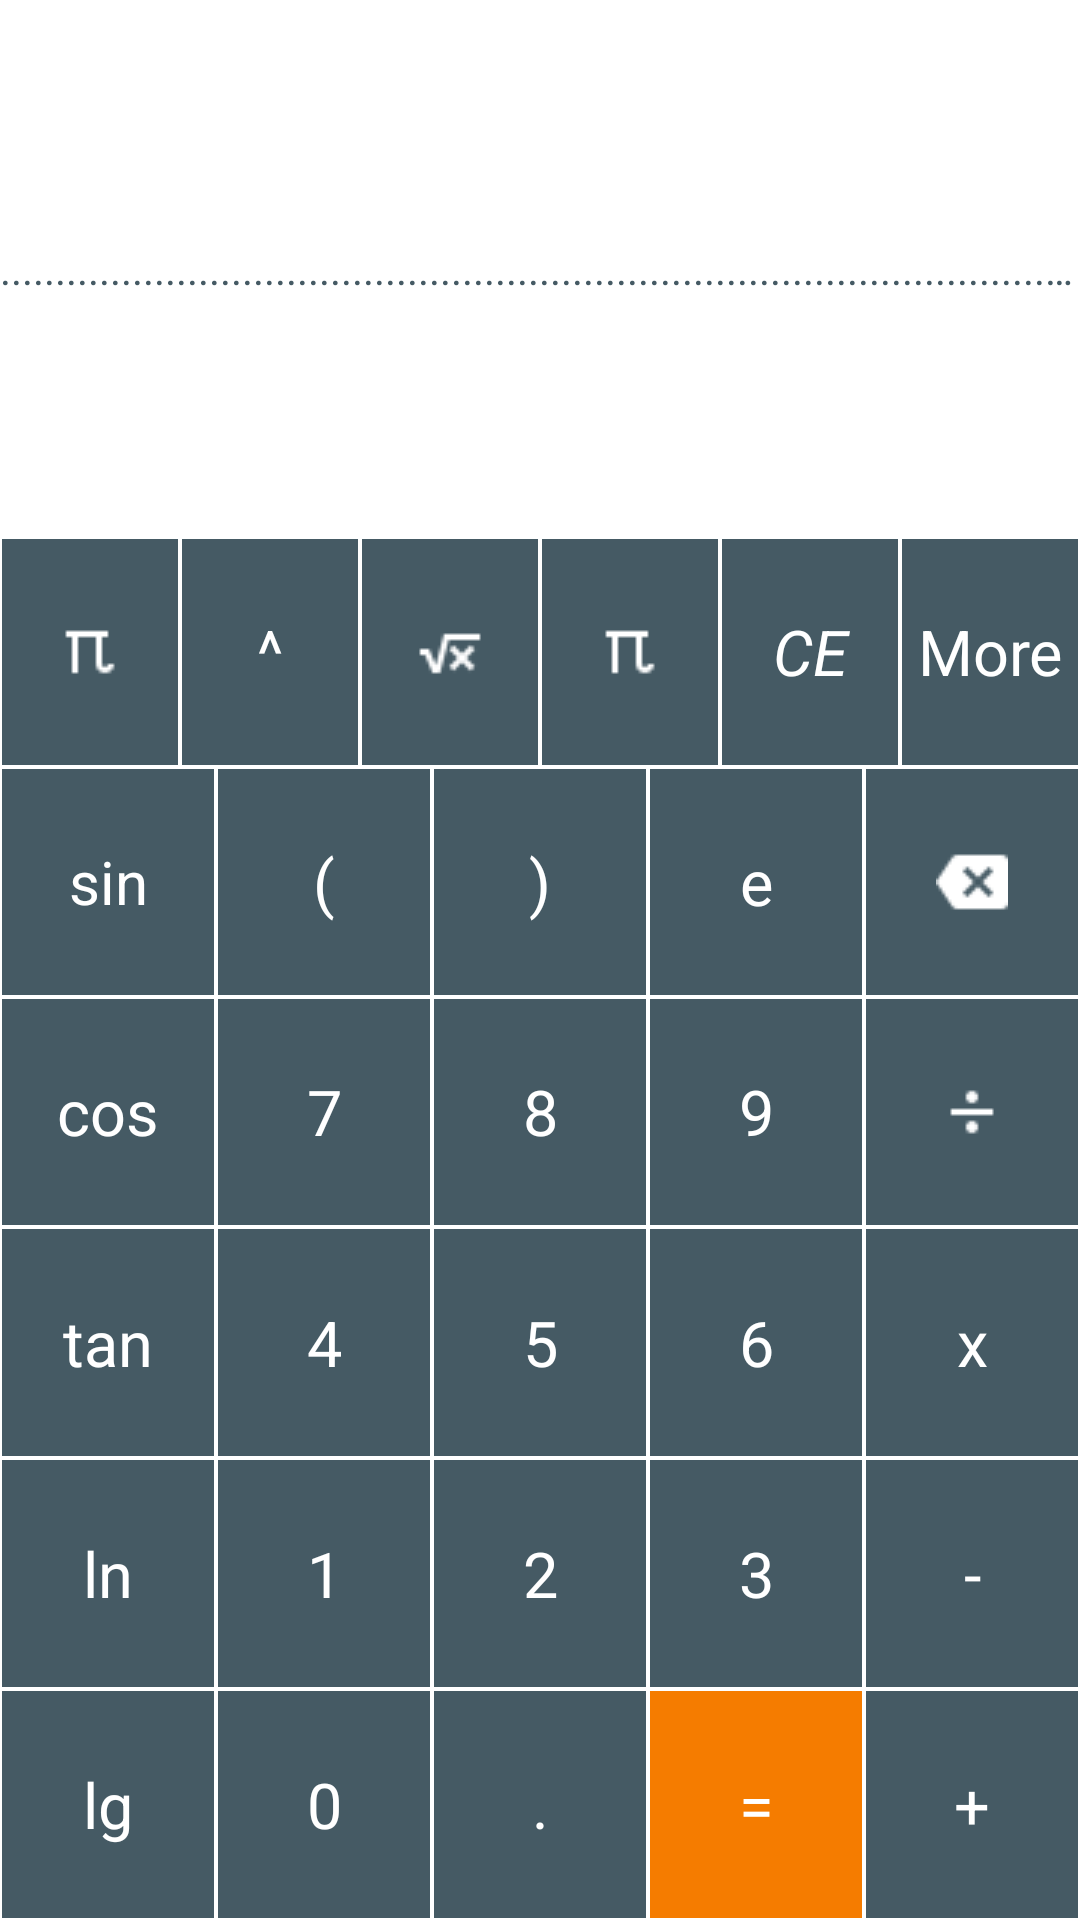

Named icons in this screenshot (1080 x 1920) and their bounding boxes, (x1, y1, x2, y2):
backspace: (936, 854, 1008, 910)
division: (950, 1090, 994, 1134)
